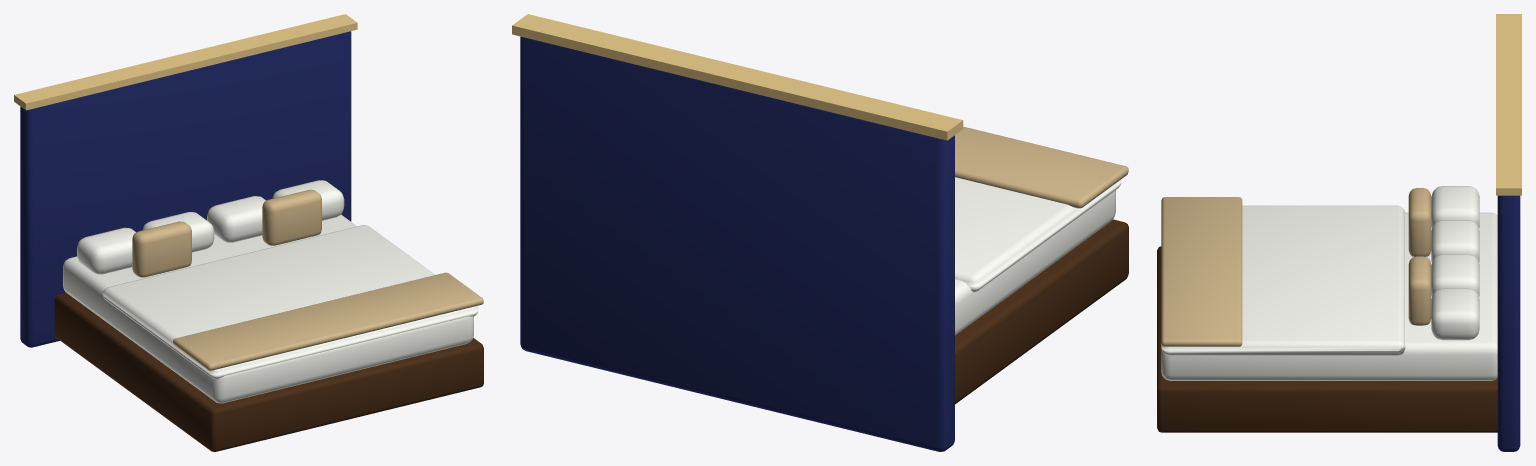
Rendered from fur_bed_king.glb.
3 renders of one model, left to right at view 1: azimuth 30°, elevation 25°; view 2: azimuth 150°, elevation 25°; view 3: azimuth 270°, elevation 25°, orthographic. The views are drawn at different scales.
Parts seen in each view (by area): view 1: FUR_bed_king; view 2: FUR_bed_king; view 3: FUR_bed_king.
Boxes of the visible parts, bbox=[...] form: FUR_bed_king: bbox=[14, 14, 483, 451]; FUR_bed_king: bbox=[512, 14, 1128, 451]; FUR_bed_king: bbox=[1157, 14, 1521, 451].
Size of the model in its own units: 2.55 by 1.82 by 2.26.
Materials: 2 (1 with a texture image).
